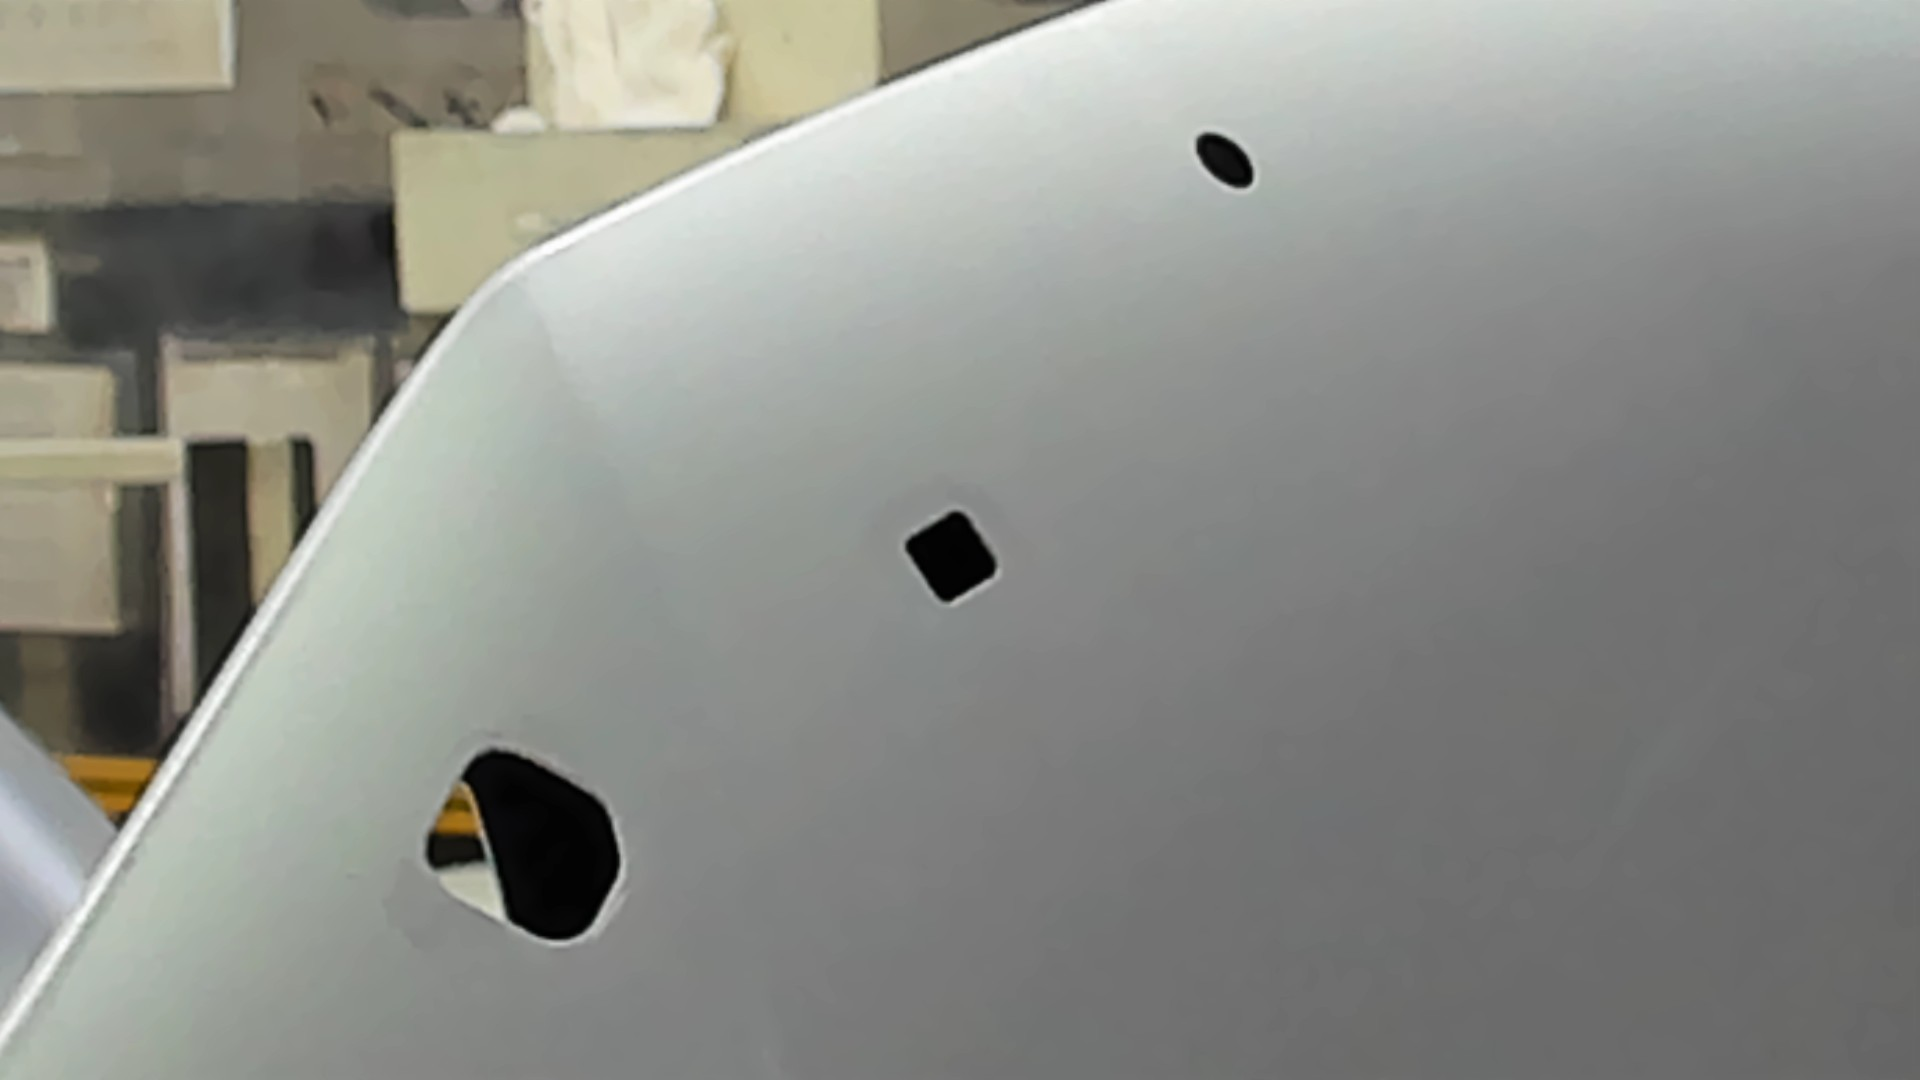capo: (1022, 214, 1920, 1080)
chico: (1189, 124, 1258, 194)
grande: (415, 740, 624, 953)
mediano: (895, 500, 1004, 616)
